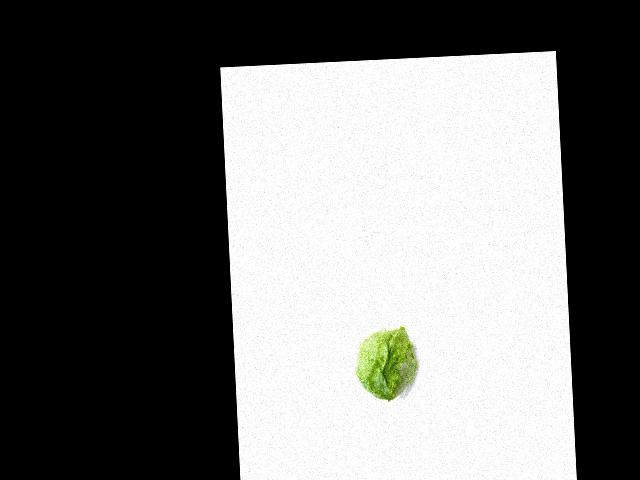lettuce: (349, 326, 422, 402)
